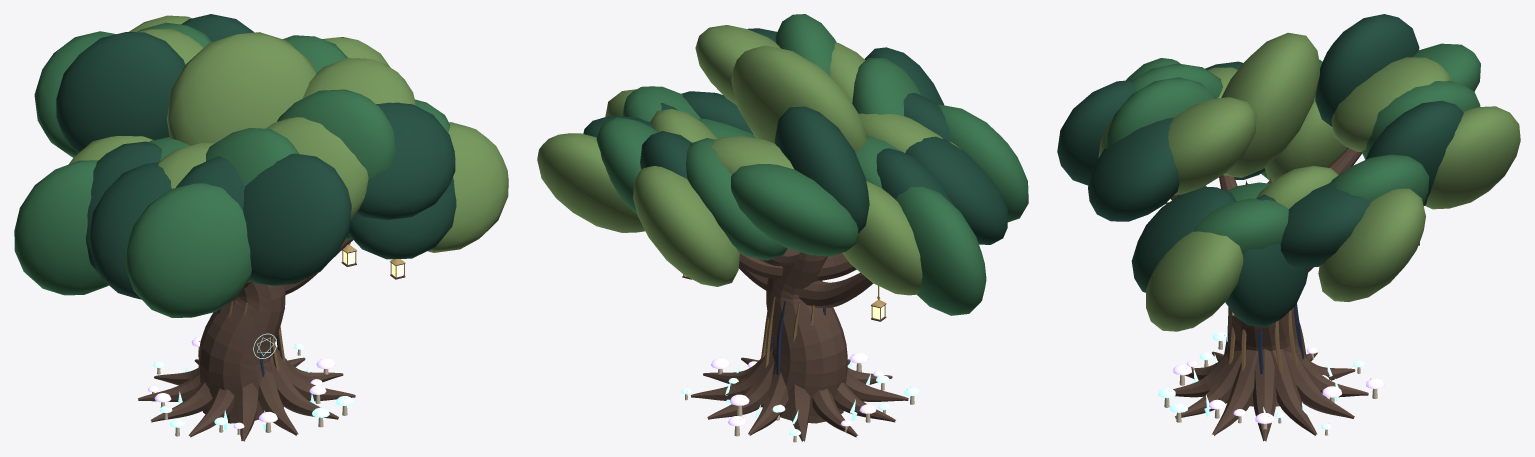
The model's file is ancient-tree.glb.
3 renders of one model, left to right at view 1: azimuth 30°, elevation 25°; view 2: azimuth 150°, elevation 25°; view 3: azimuth 270°, elevation 25°, orthographic.
Parts seen in each view (by area): view 1: AncientTree_leafDark, AncientTree_leaf, AncientTree_leafLight, AncientTree_bark, AncientTree_glow, AncientTree_rune, AncientTree_paper; view 2: AncientTree_leafLight, AncientTree_leaf, AncientTree_leafDark, AncientTree_bark, AncientTree_rune, AncientTree_glow, AncientTree_barkLight; view 3: AncientTree_leafLight, AncientTree_leafDark, AncientTree_leaf, AncientTree_bark, AncientTree_rune, AncientTree_glow, AncientTree_barkLight, AncientTree_paper, AncientTree_dark.
Boxes of the visible parts, left/top/right/bottom form: AncientTree_leafDark: left=56, top=14, right=456, bottom=299; AncientTree_leaf: left=14, top=22, right=449, bottom=317; AncientTree_leafLight: left=69, top=15, right=508, bottom=252; AncientTree_bark: left=138, top=239, right=355, bottom=441; AncientTree_glow: left=153, top=333, right=353, bottom=430; AncientTree_rune: left=148, top=336, right=335, bottom=428; AncientTree_paper: left=152, top=340, right=347, bottom=436; AncientTree_leafLight: left=537, top=25, right=960, bottom=295; AncientTree_leaf: left=596, top=14, right=1028, bottom=315; AncientTree_leafDark: left=583, top=28, right=1007, bottom=244; AncientTree_bark: left=691, top=248, right=908, bottom=441; AncientTree_rune: left=711, top=352, right=883, bottom=426; AncientTree_glow: left=681, top=359, right=920, bottom=435; AncientTree_barkLight: left=760, top=297, right=814, bottom=368; AncientTree_leafLight: left=1098, top=32, right=1520, bottom=331; AncientTree_leafDark: left=1057, top=14, right=1463, bottom=327; AncientTree_leaf: left=1105, top=43, right=1480, bottom=253; AncientTree_bark: left=1170, top=148, right=1368, bottom=441; AncientTree_rune: left=1173, top=347, right=1384, bottom=423; AncientTree_glow: left=1158, top=314, right=1364, bottom=429; AncientTree_barkLight: left=1229, top=310, right=1297, bottom=372; AncientTree_paper: left=1164, top=335, right=1377, bottom=435; AncientTree_dark: left=1225, top=303, right=1304, bottom=374.
Bounding box in the file's own units: 11.17 × 9 × 10.28.
Materials: 12 (1 with a texture image).
